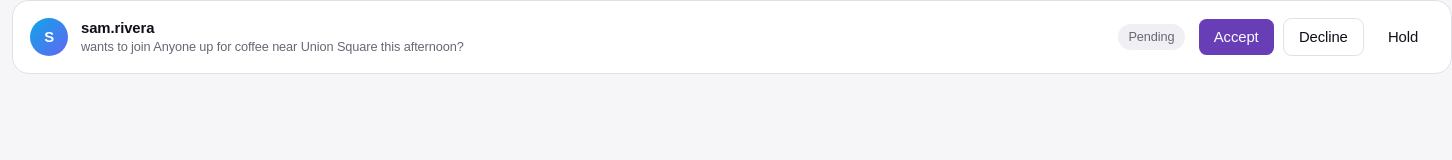
Test: ReceivedRequestsList › shows an error if accepting fails
Click the button "Accept" at (1236, 37), box 1198,18 -> 1274,56
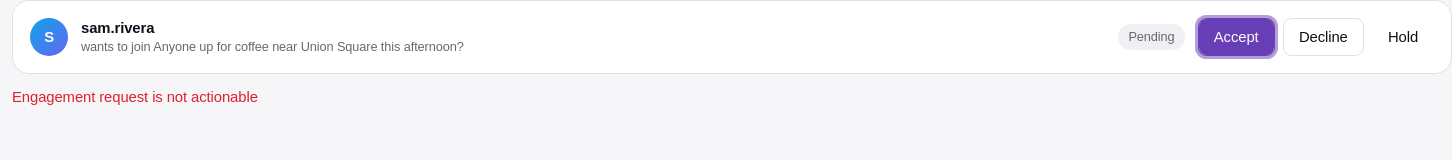
Result: the text "Engagement request is not actionable" is shown at 12,89 -> 258,105
